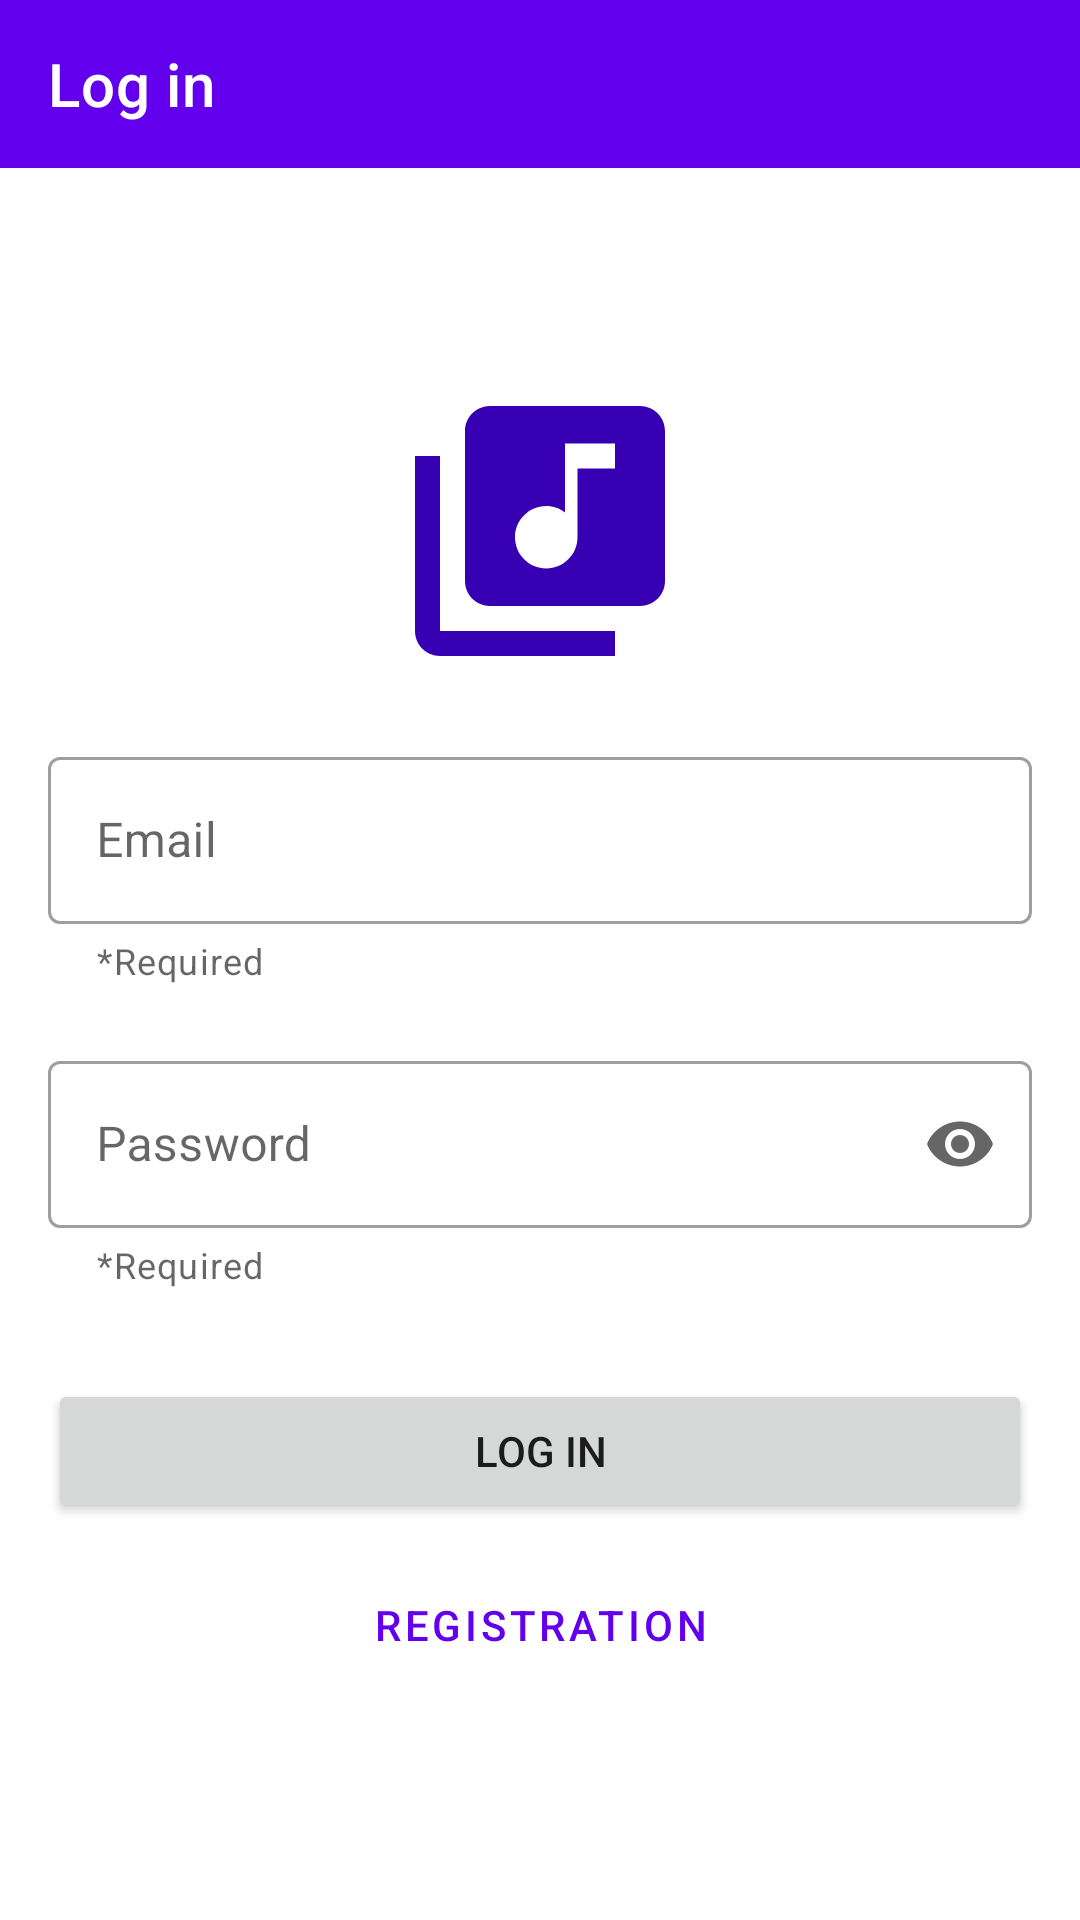

Locate icon controls on the screen. Image size 1080w x 1920h, boxes as (x1=x1, y1=y1, x2=x2, y2=y2).
library music: (x1=415, y1=406, x2=665, y2=656)
